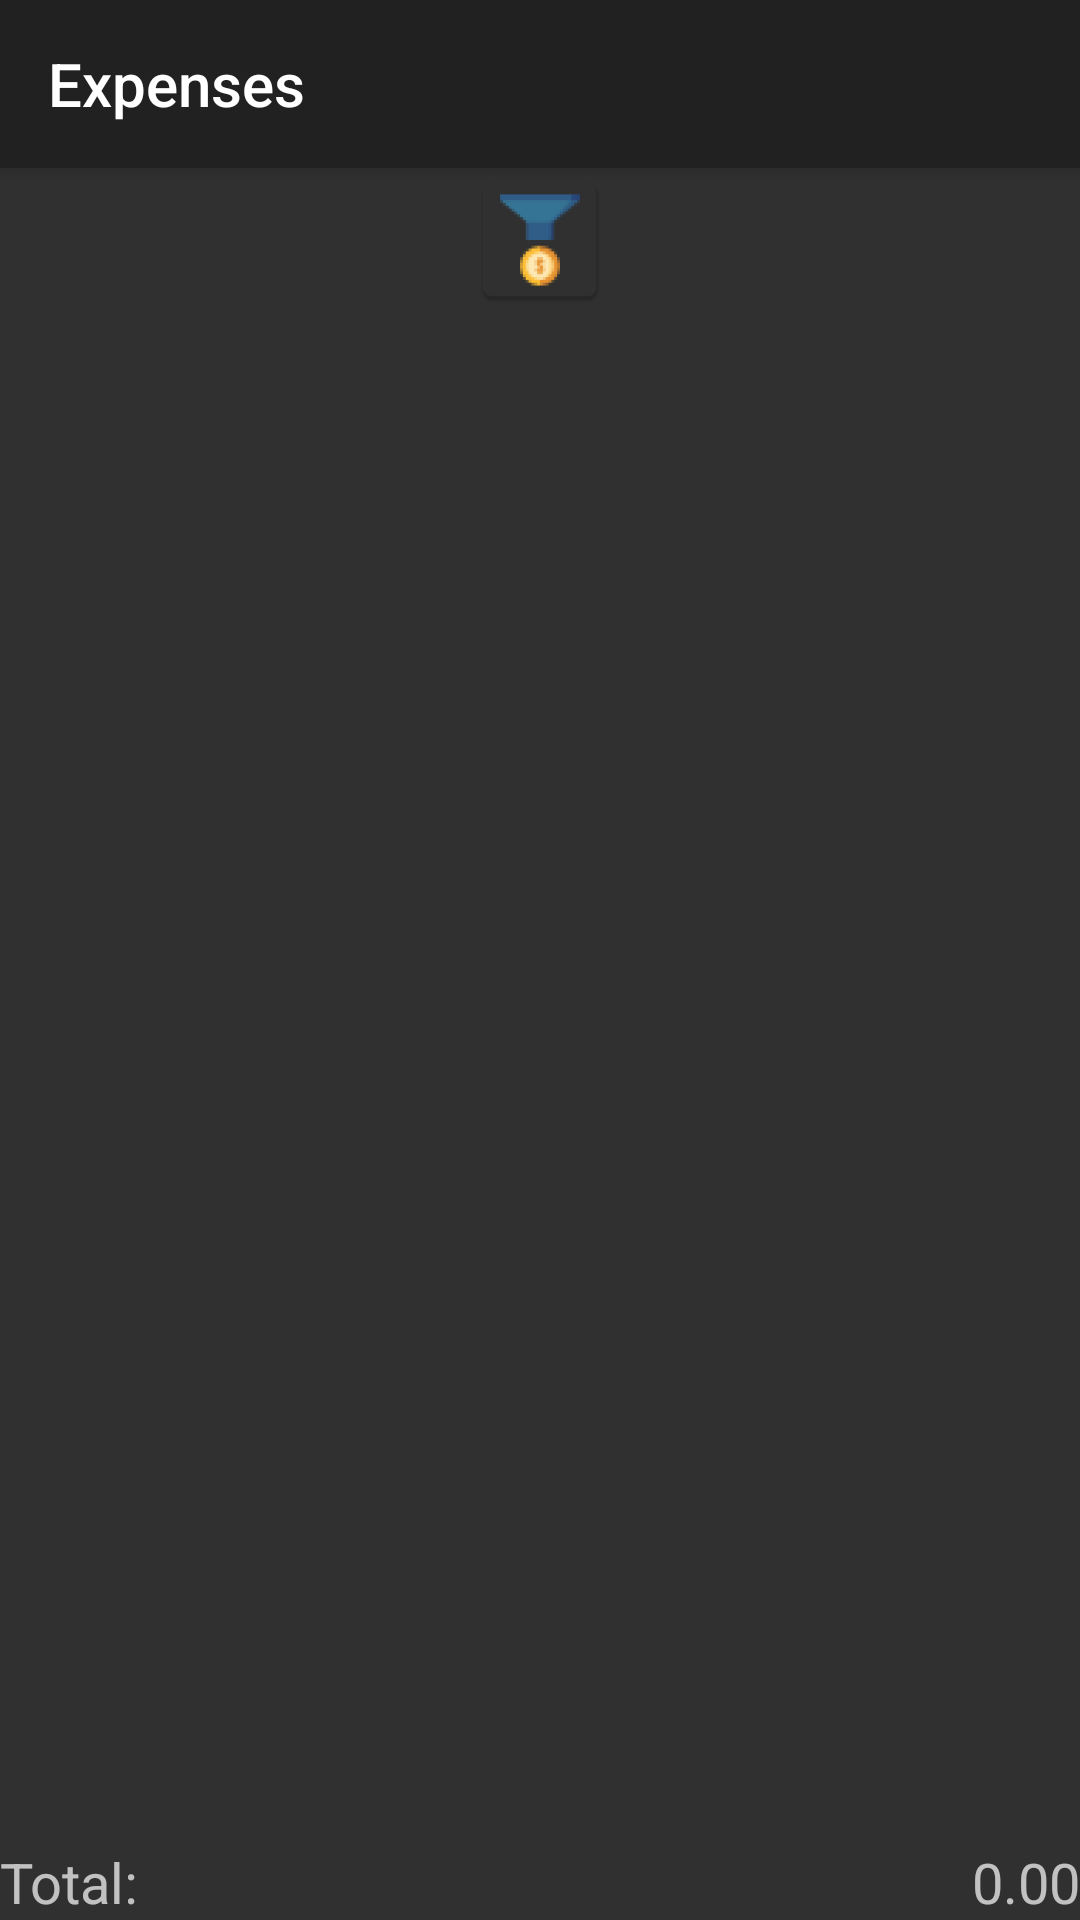

Named icons in this screenshot (1080 x 1920) and their centers, (x=x, y=y):
filter button: (x=540, y=240)
